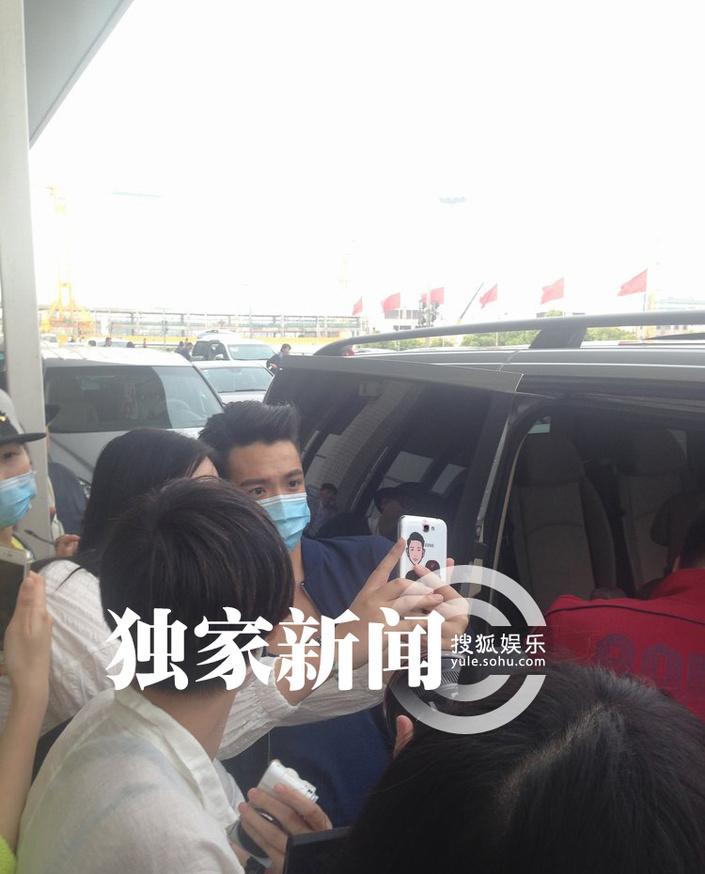face_mask: (233, 442, 307, 554), (1, 416, 37, 527)
